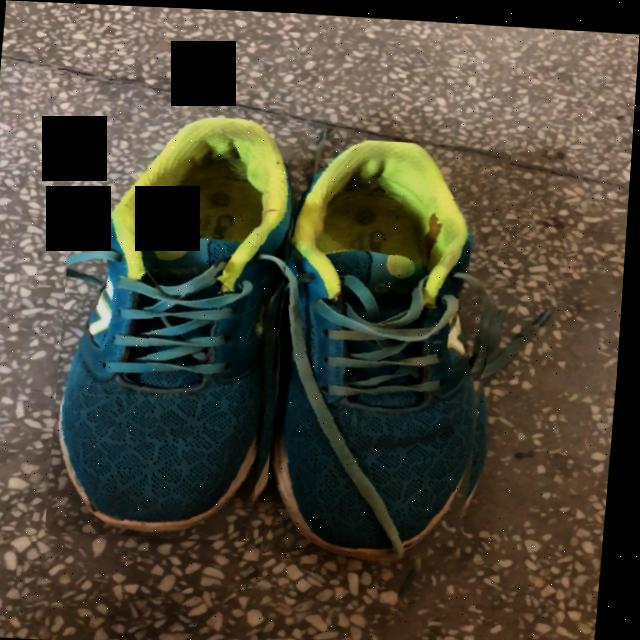shoe: (70, 115, 296, 535), (284, 137, 484, 553)
